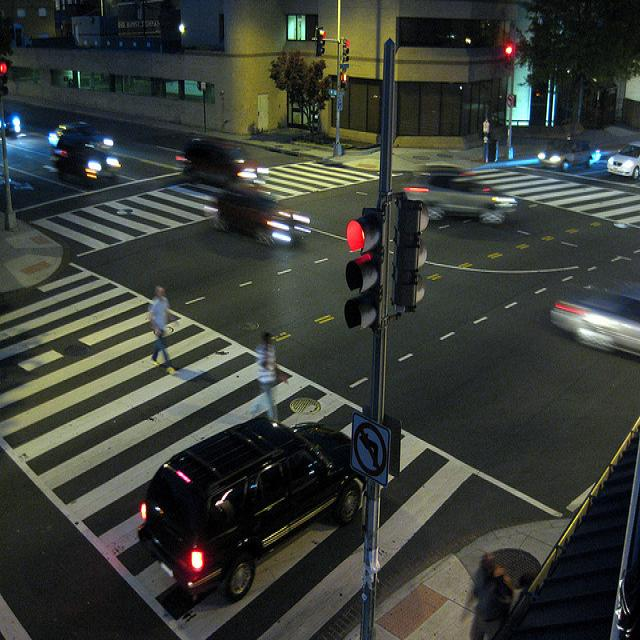Vehicle: (130, 414, 370, 604), (399, 162, 518, 225), (551, 272, 640, 355), (212, 190, 311, 246), (182, 134, 259, 186), (49, 142, 119, 191), (46, 120, 115, 151), (538, 139, 592, 170), (605, 140, 640, 178), (0, 104, 21, 140)
